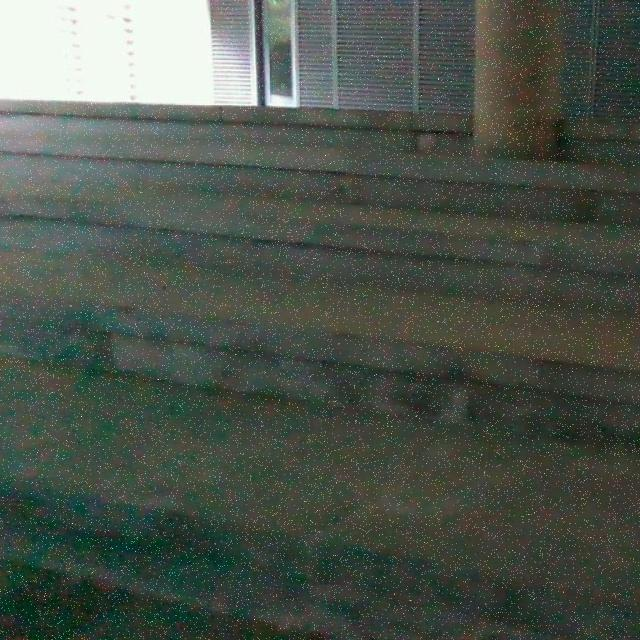stair: (36, 129, 640, 634)
